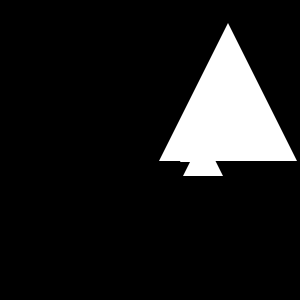circle: (206, 101, 249, 144)
triangle: (159, 23, 297, 161), (183, 136, 223, 176), (180, 140, 202, 162)
